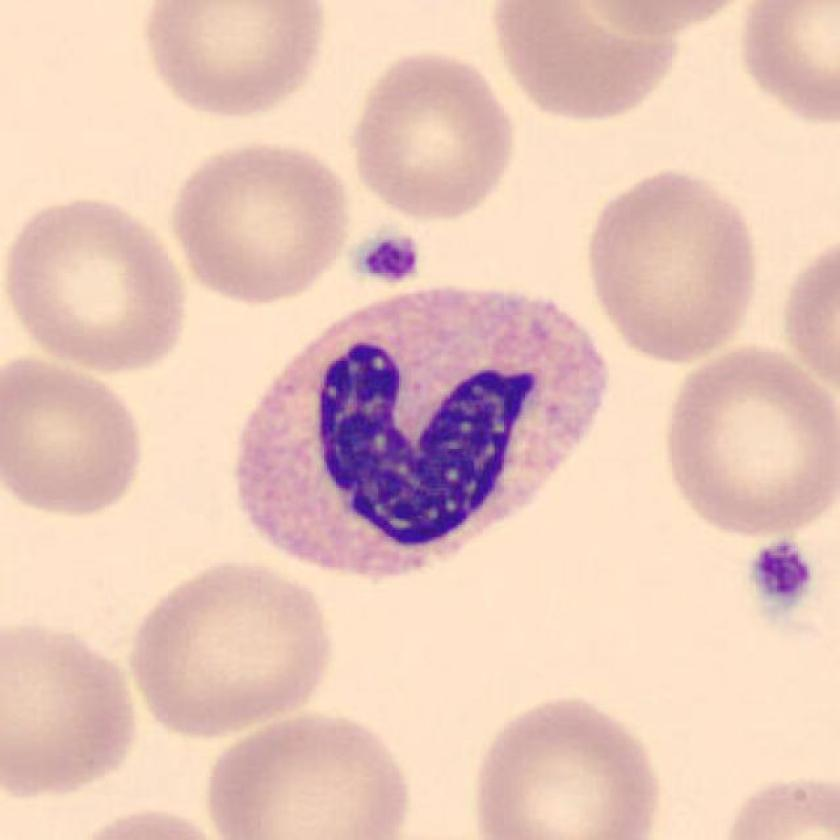neutrophil: (236, 290, 609, 575)
